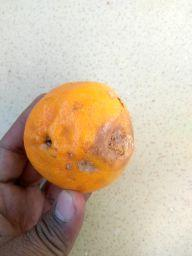Unripe: (23, 83, 134, 193)
